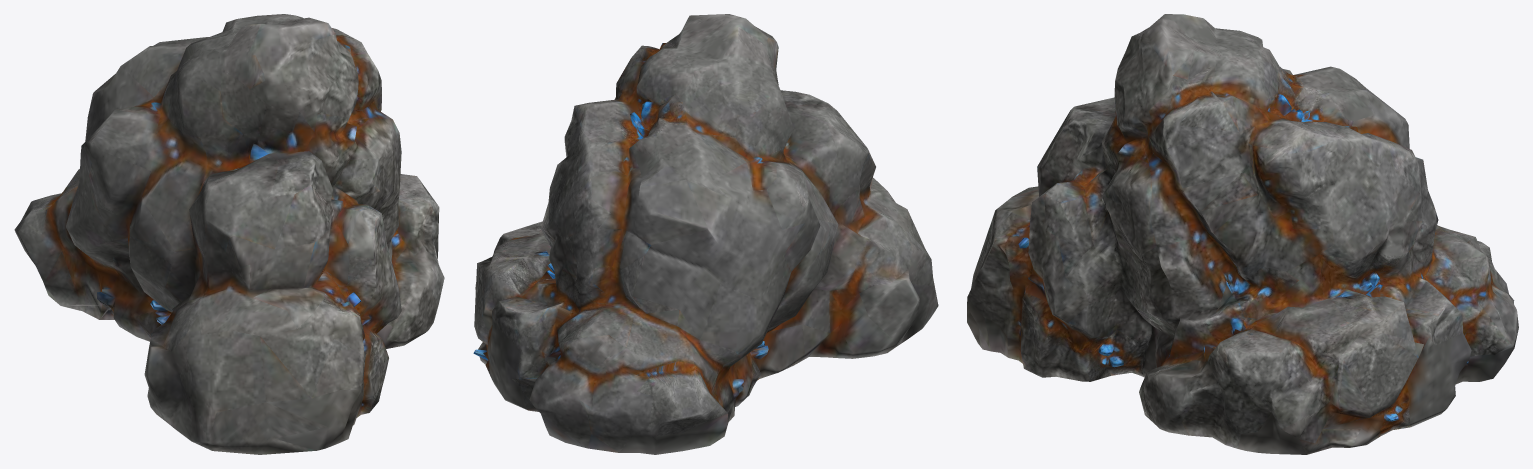
The model's file is oreNode.glb.
3 views of the same model, side by side, from view 1: azimuth 30°, elevation 25°; view 2: azimuth 150°, elevation 25°; view 3: azimuth 270°, elevation 25° (orthographic). The views are drawn at different scales.
Bounding box in the file's own units: 0.7695 × 0.6577 × 0.9609.
1 material, 1 textured.
